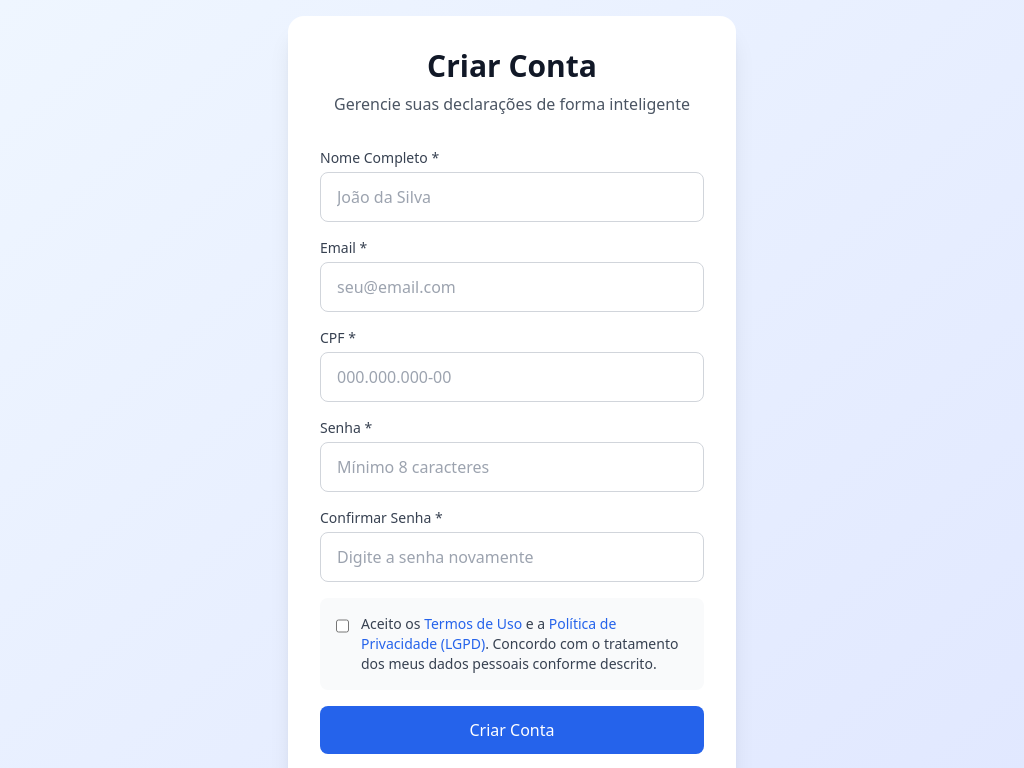
Scenario: RegisterPage › should show success message and redirect after registration
The width and height of the screenshot is (1024, 768).
Type "João Silva" into the field labelled "Nome Completo *". click: [512, 197]
box: [320,172,704,222]
Type "joao@teste.com" into the field labelled "Email *". click: [512, 287]
box: [320,262,704,312]
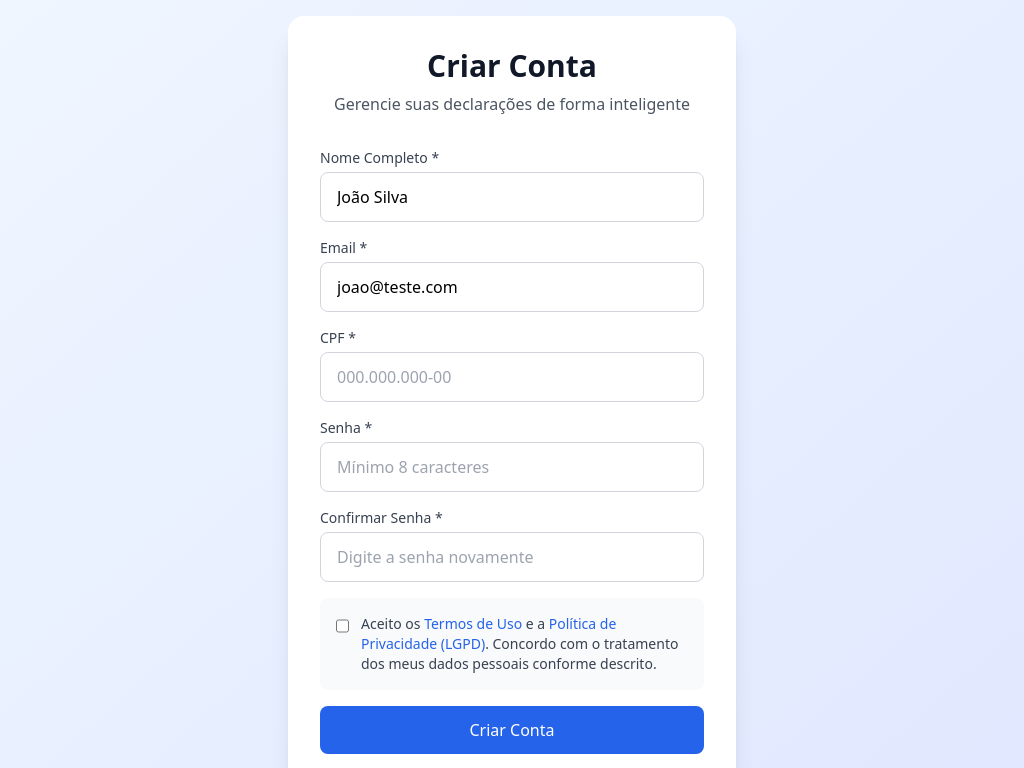
Type "52998224725" into the field labelled "CPF *". click: [512, 377]
box: [320,352,704,402]
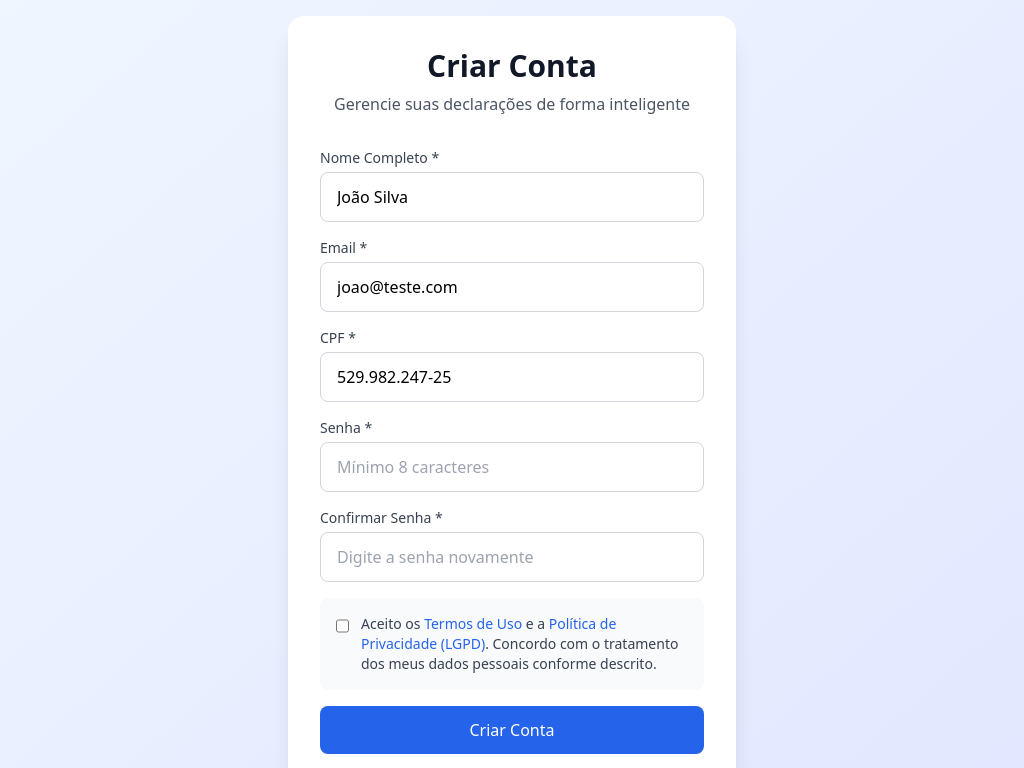
Type "senha12345" into the password field labelled "Senha *". click: [512, 467]
box: [320,442,704,492]
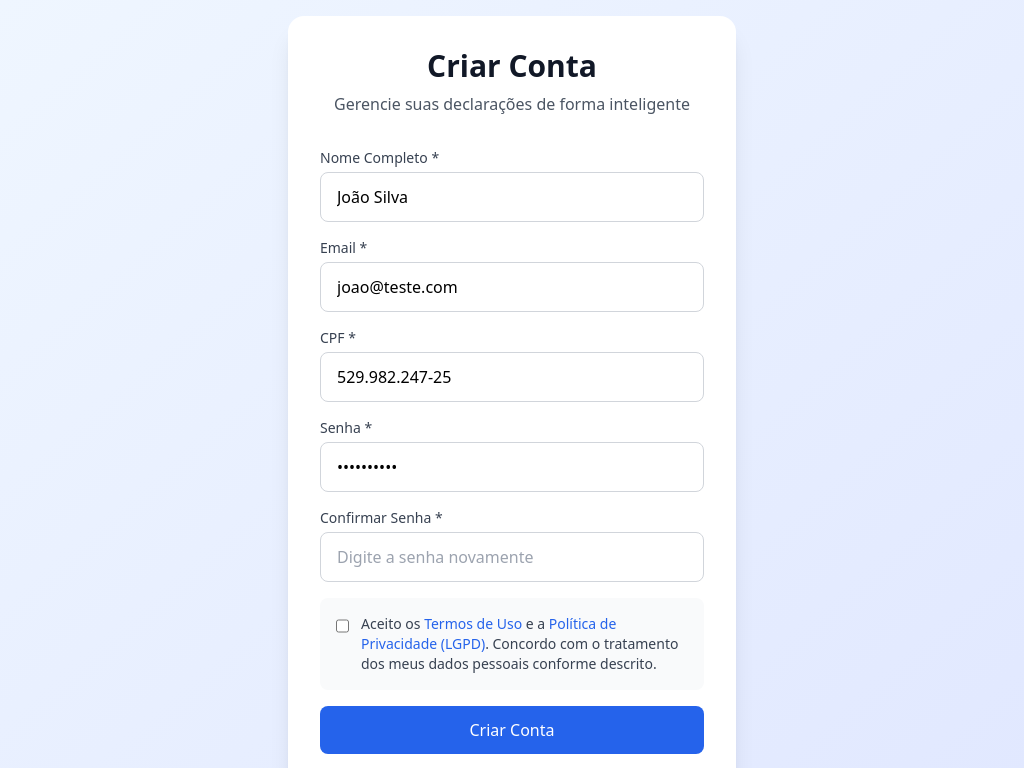
Type "senha12345" into the password field labelled "Confirmar Senha *". click: [512, 557]
box: [320,532,704,582]
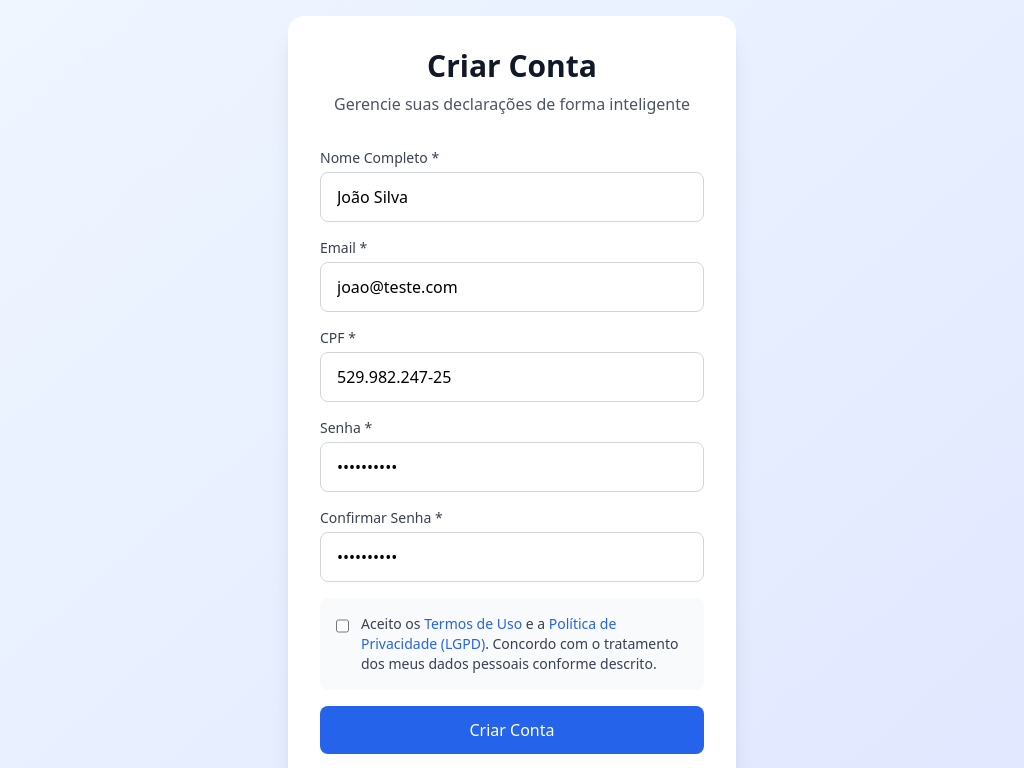
Click the checkbox labelled "Aceito os". click: [342, 626]
box: [336,618,349,634]
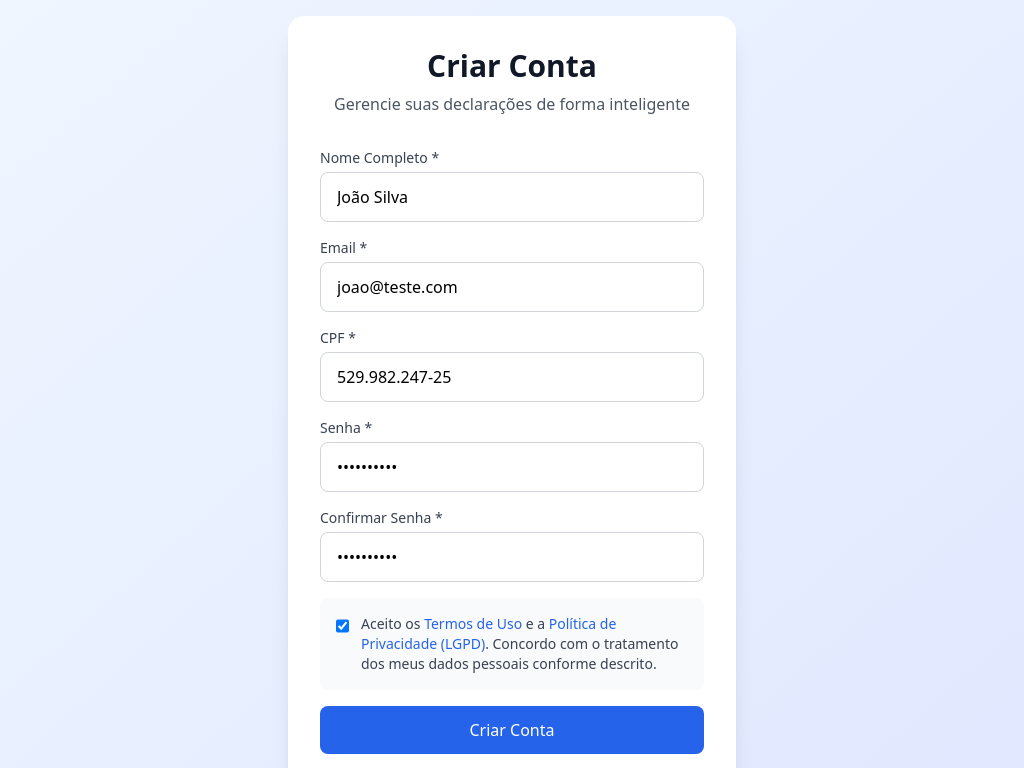
Submit the form named "Criar Conta", box [320,148,704,754]
Wait 2000 ms
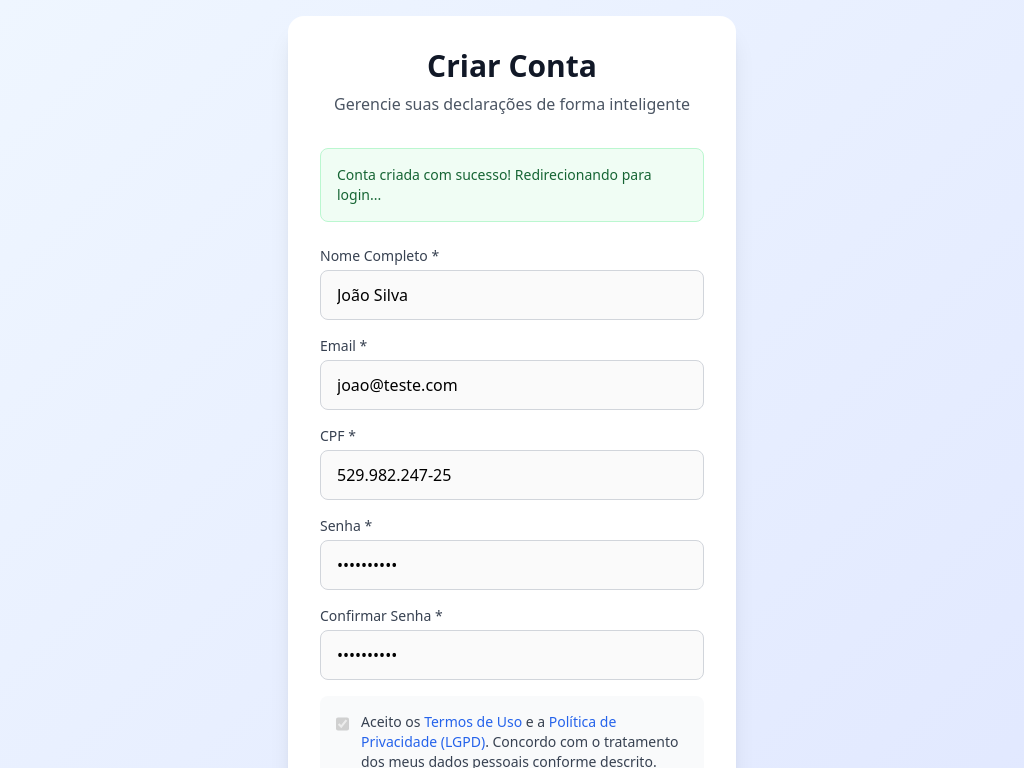
Now the text "Conta criada com sucesso! Redirecionando para login..." is shown, box [337,165,687,205]
